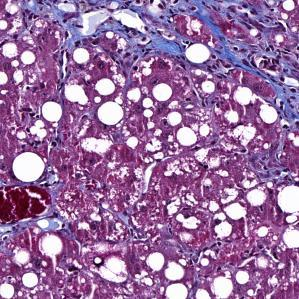fibrosis: (109, 0, 271, 71)
